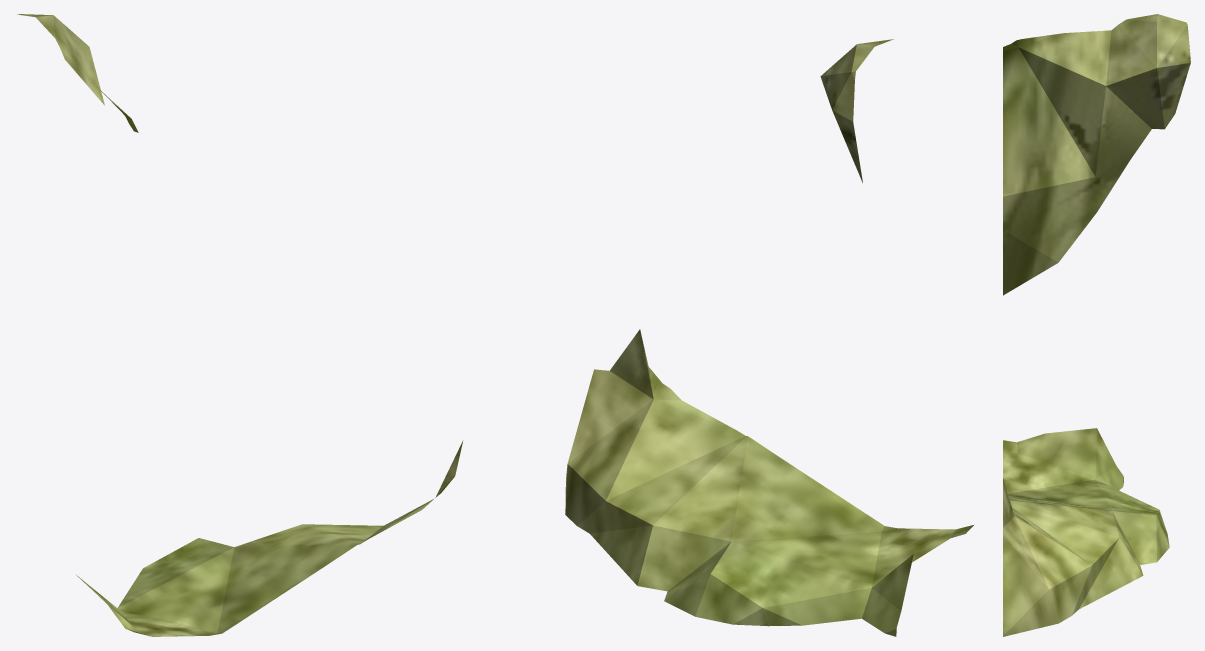
3 renders of one model, left to right at view 1: azimuth 30°, elevation 25°; view 2: azimuth 150°, elevation 25°; view 3: azimuth 270°, elevation 25°, orthographic. The views are drawn at different scales.
Size of the model in its own units: 0.9553 by 1.35 by 0.4917.
Materials: 1 (1 with a texture image).
